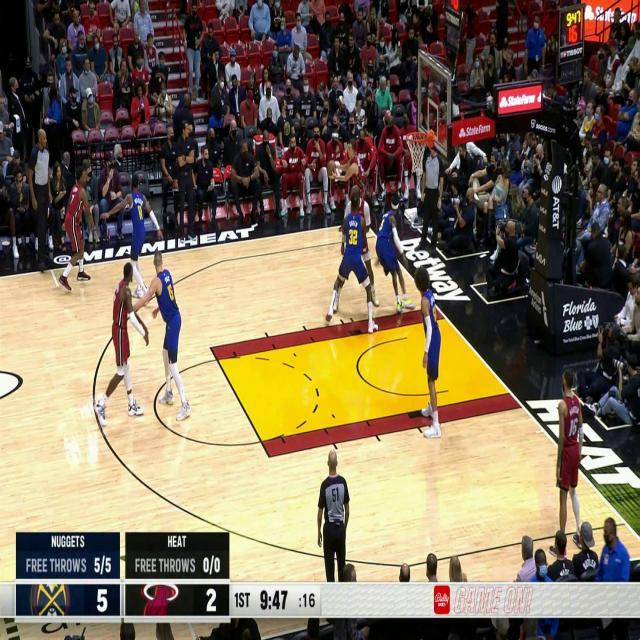rim: (327, 159, 337, 178)
